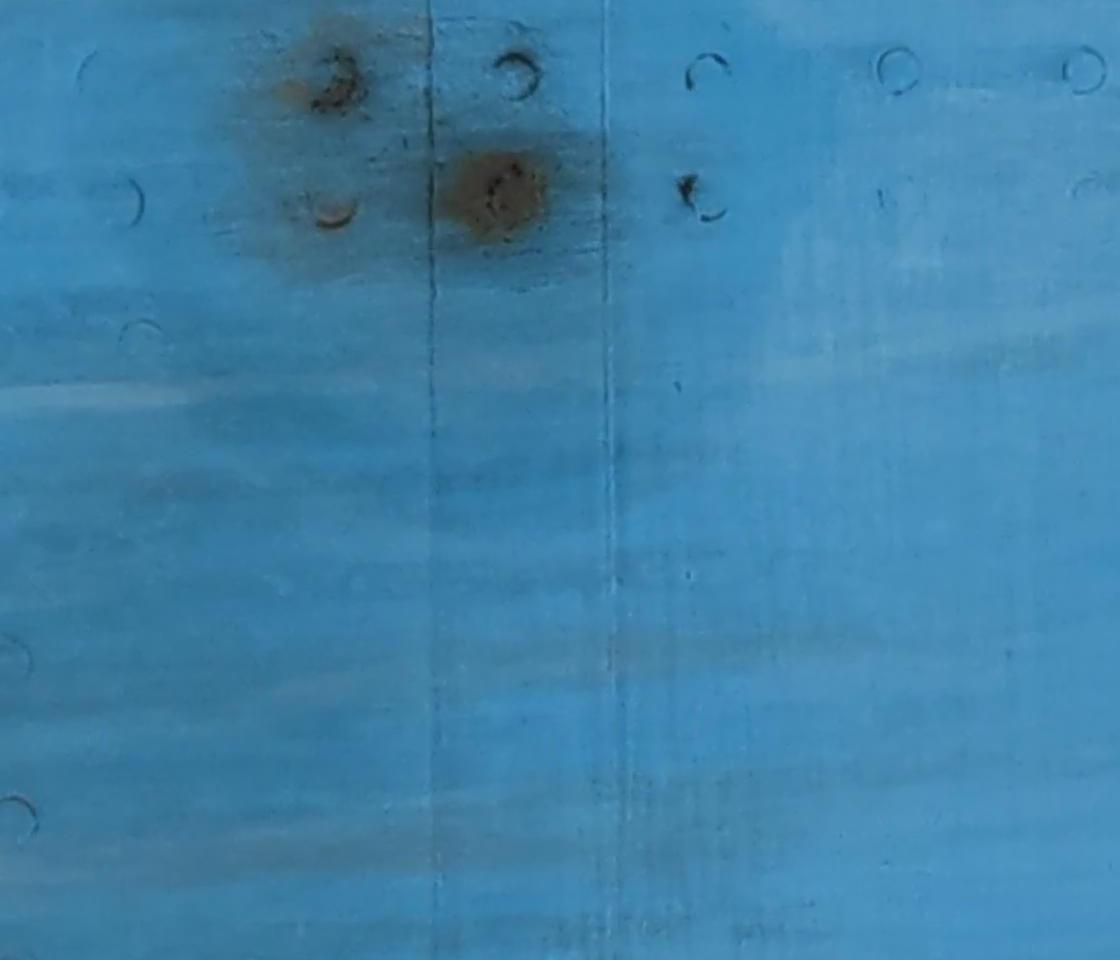rust: (452, 156, 534, 232)
